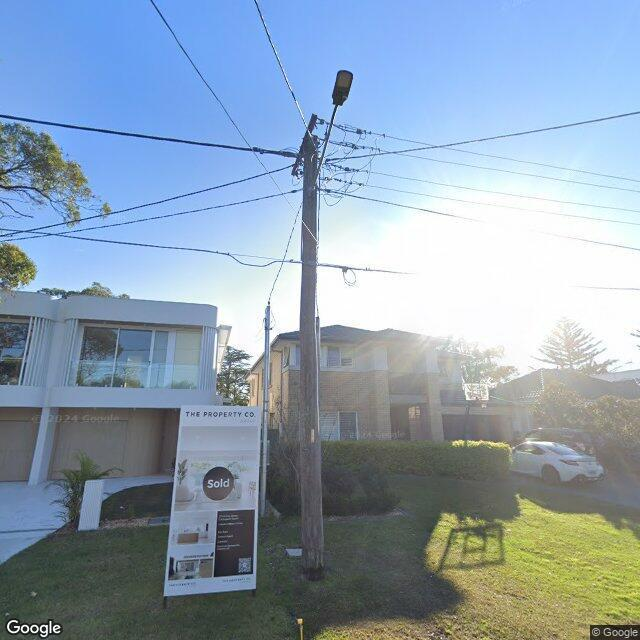crossarm: (292, 114, 318, 176)
steel-pole: (259, 306, 270, 520)
streetlight: (314, 68, 354, 190)
timber-pole: (300, 134, 325, 580)
